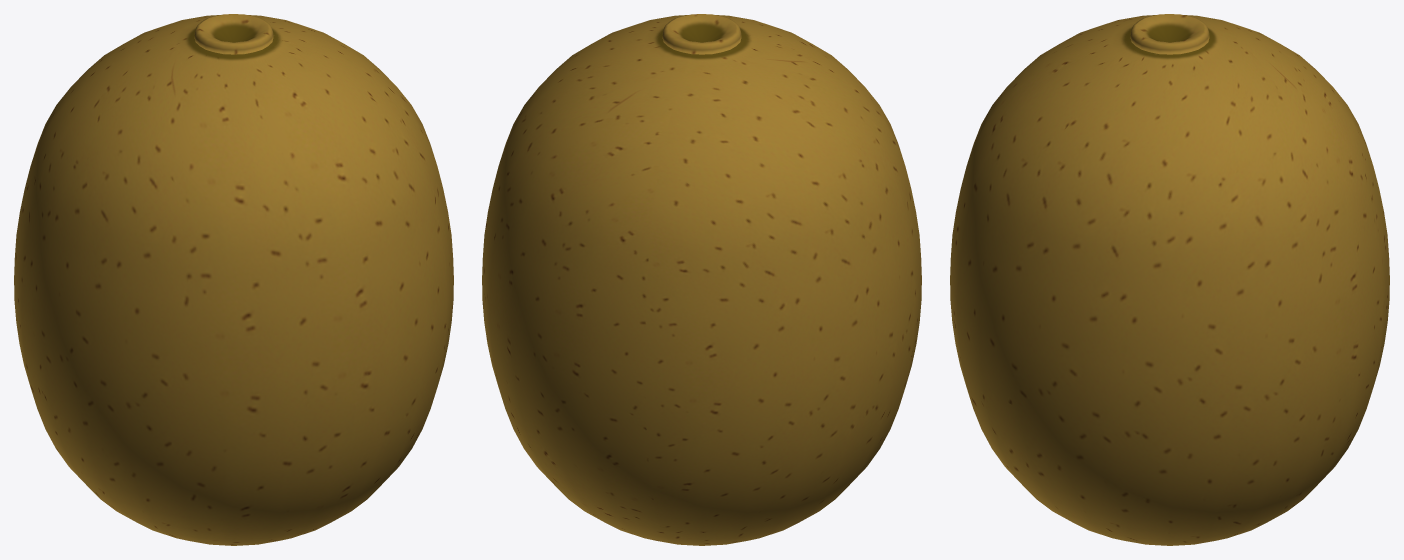
File: mihoutao.fbx
3 renders of one model, left to right at view 1: azimuth 30°, elevation 25°; view 2: azimuth 150°, elevation 25°; view 3: azimuth 270°, elevation 25°, orthographic.
Visible parts, largest first — view 1: mihoutao; view 2: mihoutao; view 3: mihoutao.
Boxes of the visible parts, <box> form: mihoutao: <box>14,14,453,545</box>; mihoutao: <box>482,14,921,545</box>; mihoutao: <box>950,14,1389,545</box>.
Size of the model in its own units: 27.9 by 34.67 by 27.9.
